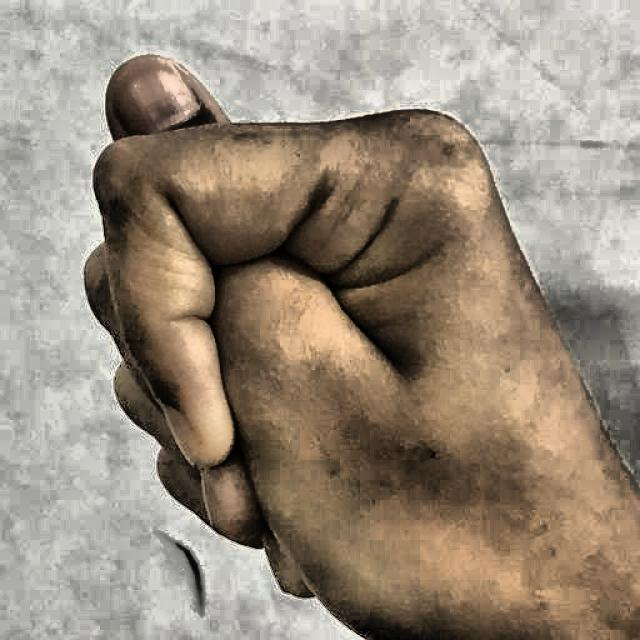Ta: (67, 25, 606, 640)
